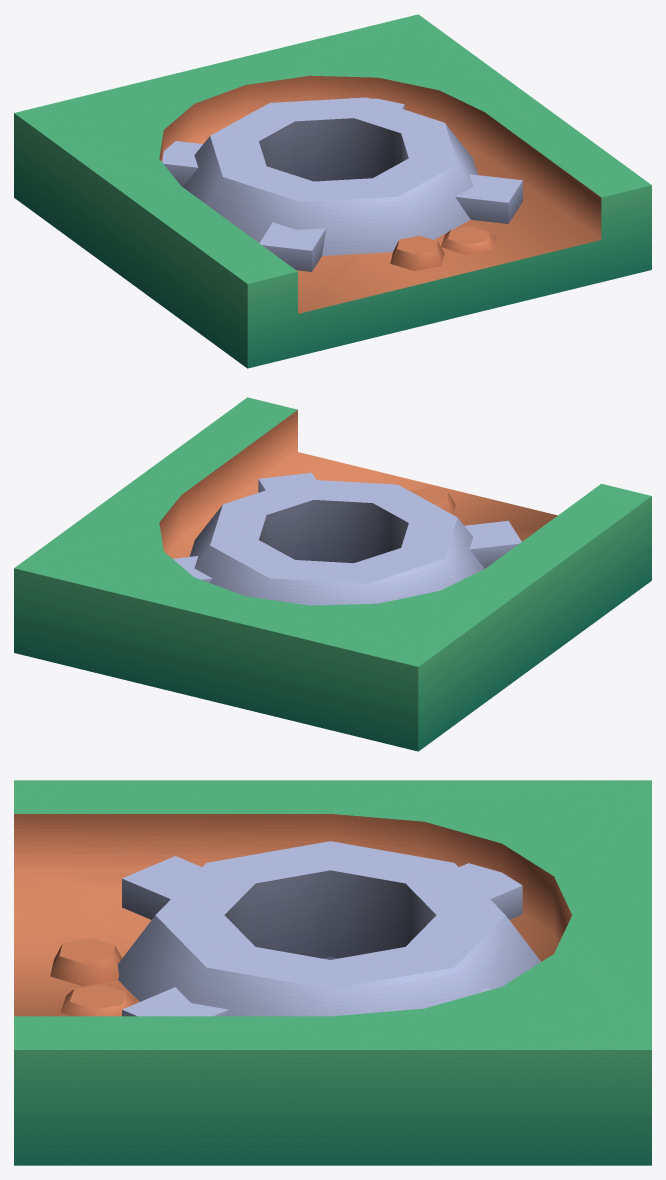
The model's file is tile-spawn-end-round.glb.
The picture shows the model from 3 angles, top to bottom: view 1: azimuth 30°, elevation 25°; view 2: azimuth 150°, elevation 25°; view 3: azimuth 270°, elevation 25°; orthographic projection. The views are drawn at different scales.
Visible parts, largest first — view 1: tile-spawn-end-round; view 2: tile-spawn-end-round; view 3: tile-spawn-end-round.
Boxes of the visible parts, <box> form: tile-spawn-end-round: <box>14,14,651,368</box>; tile-spawn-end-round: <box>14,397,651,751</box>; tile-spawn-end-round: <box>14,780,651,1165</box>.
Size of the model in its own units: 3 by 0.6 by 3.
Materials: 1 (1 with a texture image).
